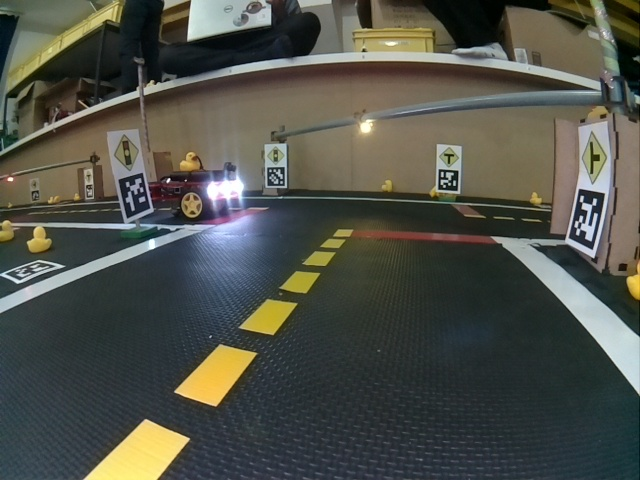Duckie: (26, 225, 51, 254), (182, 153, 199, 169), (4, 220, 14, 242), (529, 191, 542, 205), (382, 180, 392, 191), (72, 193, 82, 202)
Duckiebot: (157, 170, 242, 218)
Intersection sign: (578, 132, 609, 181), (438, 146, 459, 167)
QR code: (566, 191, 608, 248), (0, 260, 65, 284), (120, 175, 152, 218), (439, 172, 459, 193), (267, 168, 284, 187)
Signal sign: (107, 131, 141, 170), (266, 145, 283, 164)
Traffic light: (354, 111, 373, 132)
